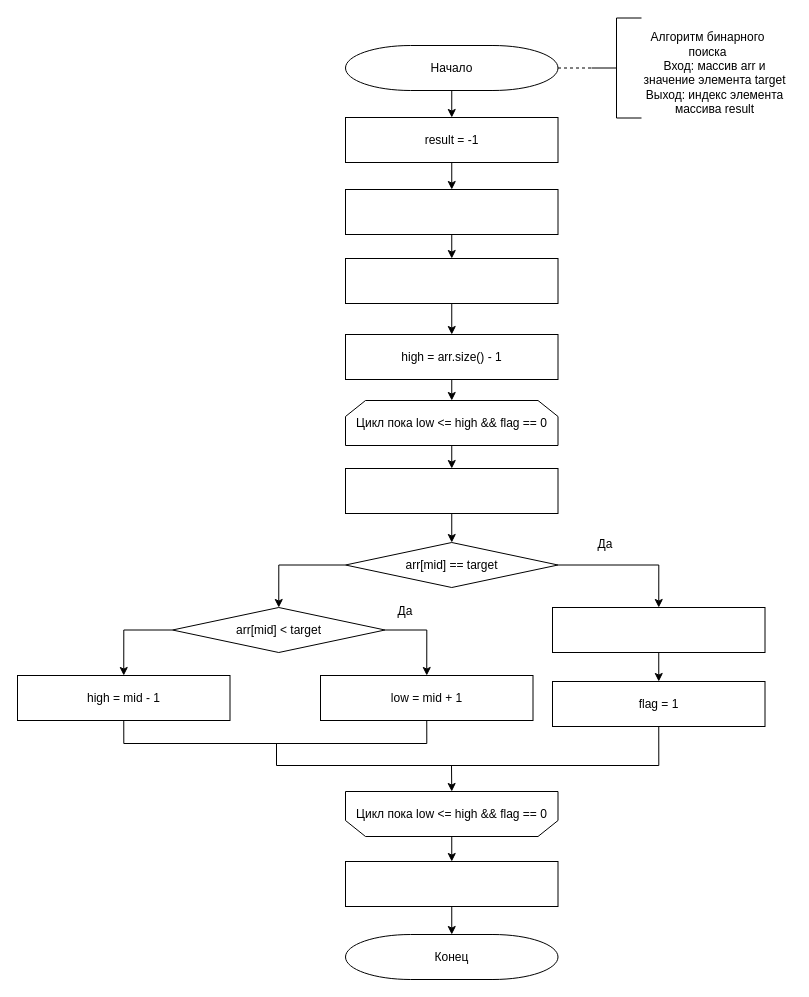
The diagram is 809 pixels wide and 997 high, and some of its shapes have lost their labels. The shapes that lost their labels are listed below. From the top down, each one's centre as x and y in pixels, then its label:
At (451,211): "flag = 0".
At (451,281): "low = 0".
At (451,491): "mid = (low + high) / 2".
At (658,629): "result = mid".
At (451,883): "Вернуть result".
